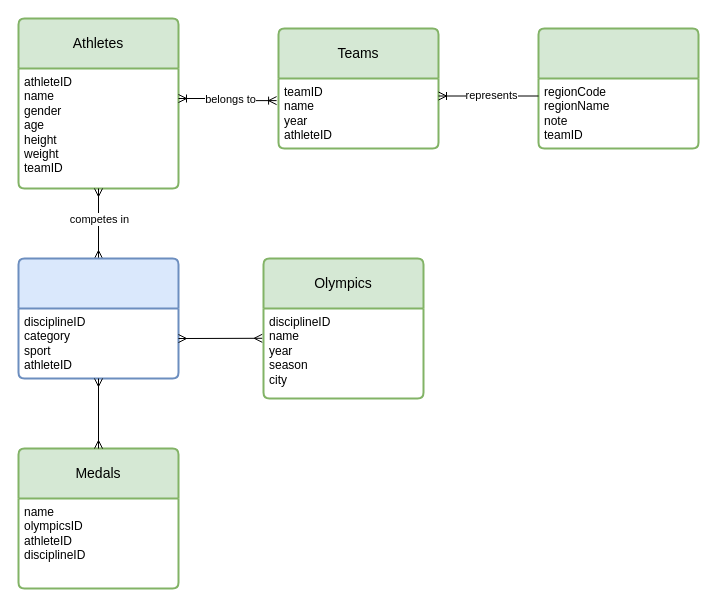
This 716x606 diagram has some shape labels left out. The shapes that lost their labels are listed below. From the top down, each one's box as (x1, y1, x2, y2) in pixels, then its label:
(537, 27, 699, 149): Regions
(17, 257, 179, 379): Disciplines
